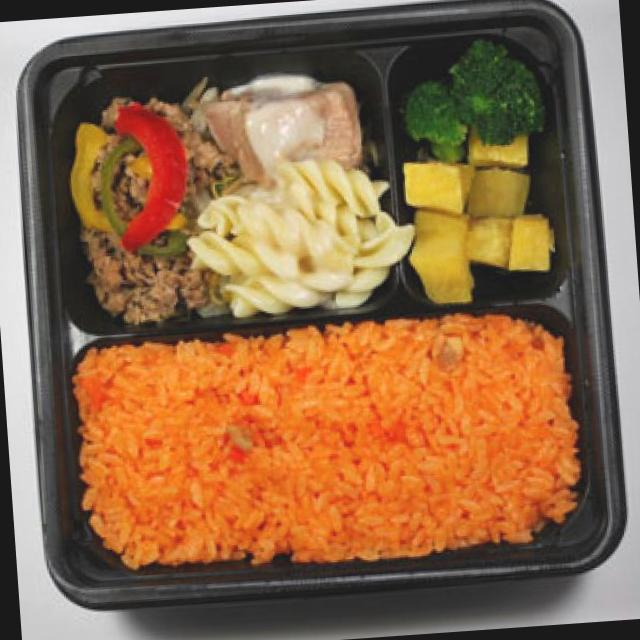Rice: (65, 302, 592, 577)
